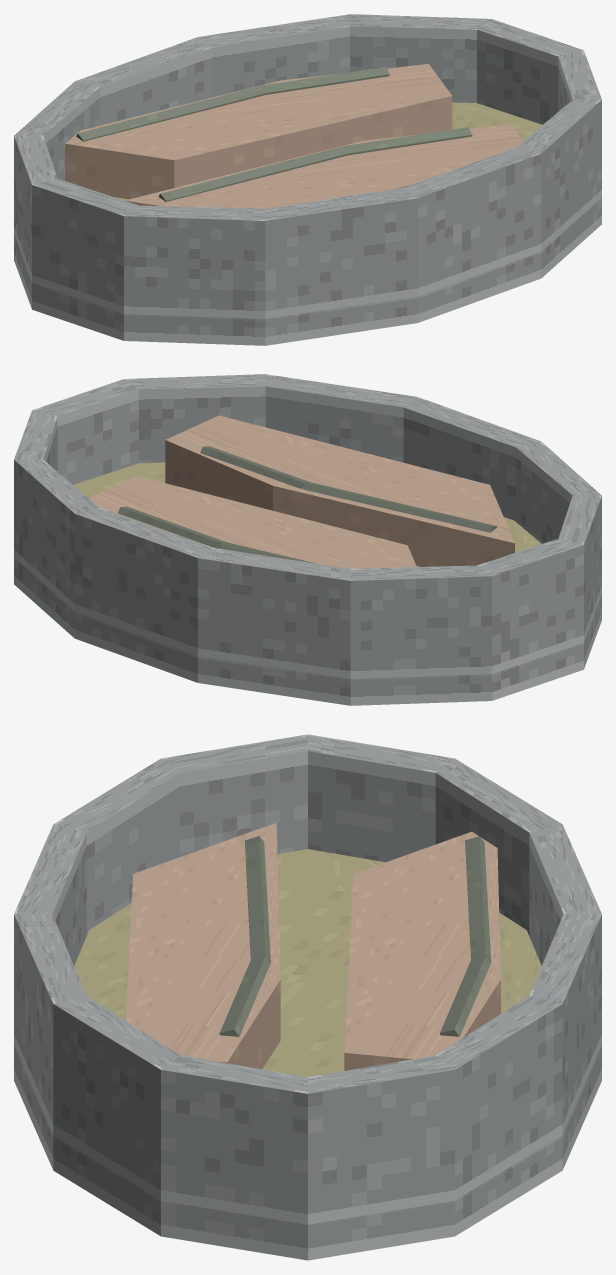
The model's file is fish_pickled.glb.
3 views of the same model, one above another, from view 1: azimuth 30°, elevation 25°; view 2: azimuth 150°, elevation 25°; view 3: azimuth 270°, elevation 25° (orthographic). The views are drawn at different scales.
Visible parts, largest first — view 1: block_rolled tin sidewall, block_pickled fillet (×2), block_opened can base, block_fish skin edge 0 (×2), block_fish skin edge 1 (×2), block_briny surface; view 2: block_rolled tin sidewall, block_pickled fillet (×2), block_opened can base, block_fish skin edge 0 (×2), block_fish skin edge 1 (×2), block_briny surface; view 3: block_rolled tin sidewall, block_pickled fillet (×2), block_briny surface, block_opened can base, block_fish skin edge 0 (×2), block_fish skin edge 1 (×2).
Boxes of the visible parts, <box> form: block_rolled tin sidewall: <box>14,14,601,320</box>; block_pickled fillet (×2): <box>65,64,523,208</box>; block_opened can base: <box>14,198,601,345</box>; block_fish skin edge 0 (×2): <box>76,86,348,201</box>; block_fish skin edge 1 (×2): <box>261,66,472,155</box>; block_briny surface: <box>114,102,542,200</box>; block_rolled tin sidewall: <box>14,374,601,680</box>; block_pickled fillet (×2): <box>88,415,514,568</box>; block_opened can base: <box>14,558,601,705</box>; block_fish skin edge 0 (×2): <box>220,482,497,563</box>; block_fish skin edge 1 (×2): <box>118,446,309,548</box>; block_briny surface: <box>73,462,541,566</box>; block_rolled tin sidewall: <box>14,734,601,1225</box>; block_pickled fillet (×2): <box>125,822,500,1070</box>; block_briny surface: <box>74,849,541,1077</box>; block_opened can base: <box>14,1045,601,1260</box>; block_fish skin edge 0 (×2): <box>245,836,491,962</box>; block_fish skin edge 1 (×2): <box>219,956,490,1036</box>.
Bounding box in the file's own units: 0.101 × 0.0218 × 0.0698.
1 material, 1 textured.
